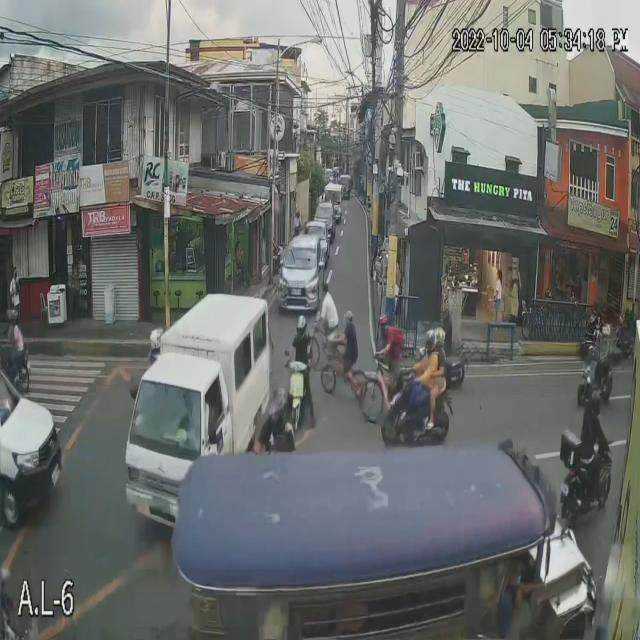Full-Faced: (432, 321, 448, 350), (146, 325, 163, 351), (596, 319, 612, 346), (422, 326, 437, 354), (268, 403, 285, 427), (292, 312, 308, 337), (6, 300, 20, 328), (584, 390, 598, 418), (274, 385, 288, 411)
Invalid: (377, 316, 391, 331)
Not-Wearing-Helmet: (344, 308, 356, 325), (319, 281, 331, 296)
